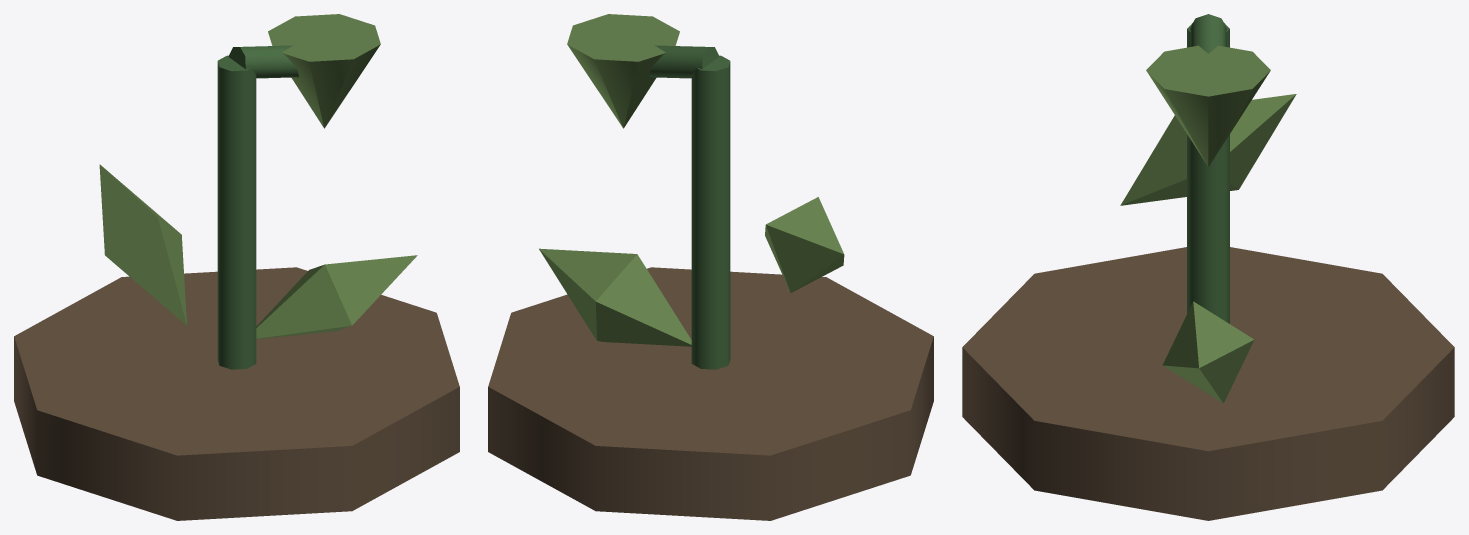
Rendered from plant-bluebell-1.glb.
3 views of the same model, side by side, from view 1: azimuth 30°, elevation 25°; view 2: azimuth 150°, elevation 25°; view 3: azimuth 270°, elevation 25° (orthographic). The views are drawn at different scales.
Parts seen in each view (by area): view 1: plant-bluebell-1-visual; view 2: plant-bluebell-1-visual; view 3: plant-bluebell-1-visual.
Boxes of the visible parts, x1=… form: plant-bluebell-1-visual: x1=14, y1=14, x2=459, y2=520; plant-bluebell-1-visual: x1=488, y1=14, x2=933, y2=520; plant-bluebell-1-visual: x1=962, y1=14, x2=1454, y2=520.
Size of the model in its own units: 0.32 by 0.2902 by 0.32.
